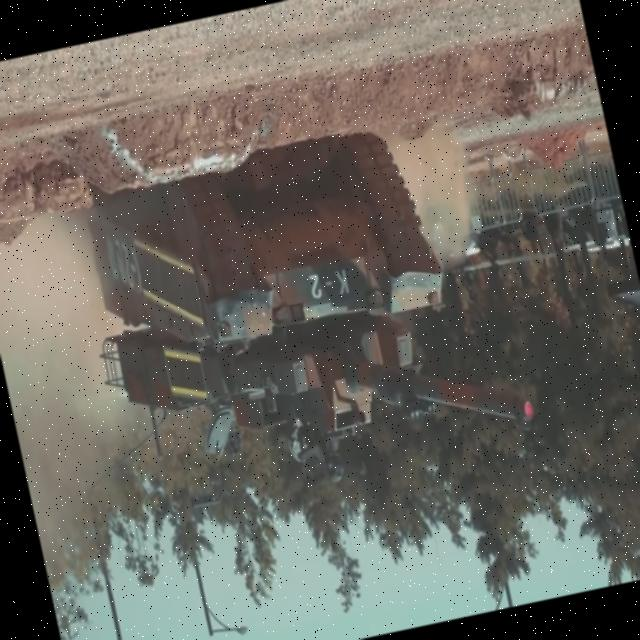korea tank: (62, 102, 542, 526)
